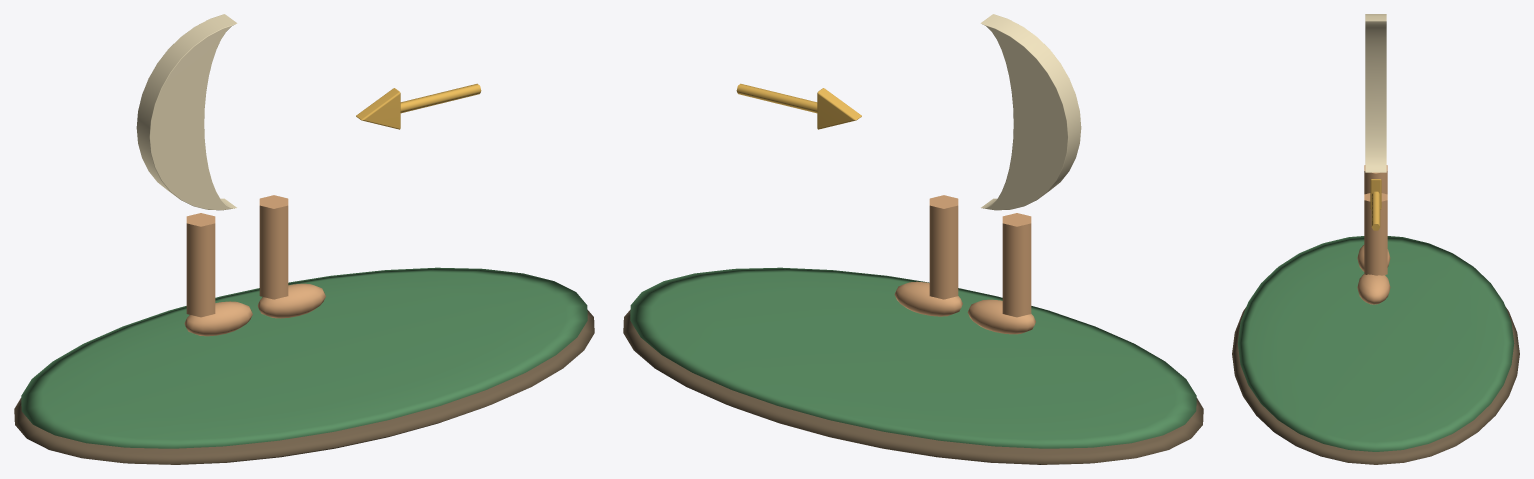
The model's file is moon-legs.glb.
3 views of the same model, side by side, from view 1: azimuth 30°, elevation 25°; view 2: azimuth 150°, elevation 25°; view 3: azimuth 270°, elevation 25° (orthographic). The views are drawn at different scales.
Parts seen in each view (by area): view 1: moon-legs_surface_01, moon-legs_surface_02, moon-legs_surface_00, moon-legs_surface_04, moon-legs_surface_03; view 2: moon-legs_surface_01, moon-legs_surface_02, moon-legs_surface_00, moon-legs_surface_04, moon-legs_surface_03; view 3: moon-legs_surface_01, moon-legs_surface_00, moon-legs_surface_02, moon-legs_surface_04, moon-legs_surface_03.
Boxes of the visible parts, x1,y1,x2,y2 form: moon-legs_surface_01: [21, 267, 587, 448]; moon-legs_surface_02: [136, 14, 237, 210]; moon-legs_surface_00: [14, 309, 594, 464]; moon-legs_surface_04: [184, 195, 325, 336]; moon-legs_surface_03: [356, 83, 481, 129]; moon-legs_surface_01: [630, 267, 1196, 448]; moon-legs_surface_02: [980, 14, 1081, 210]; moon-legs_surface_00: [623, 309, 1203, 464]; moon-legs_surface_04: [894, 195, 1035, 334]; moon-legs_surface_03: [736, 83, 861, 129]; moon-legs_surface_01: [1237, 236, 1514, 451]; moon-legs_surface_00: [1232, 307, 1519, 464]; moon-legs_surface_02: [1365, 14, 1386, 172]; moon-legs_surface_04: [1357, 165, 1390, 304]; moon-legs_surface_03: [1370, 179, 1381, 230].
Size of the model in its own units: 4.56 by 3.03 by 2.5.
